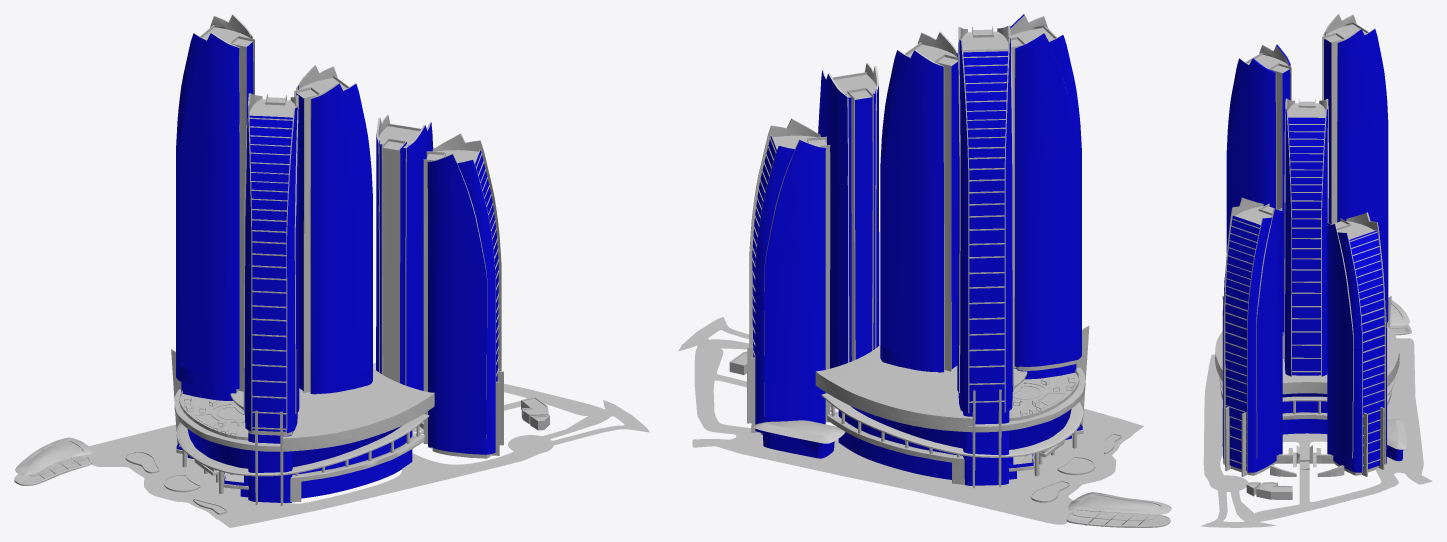
The model's file is Build2.fbx.
3 renders of one model, left to right at view 1: azimuth 30°, elevation 25°; view 2: azimuth 150°, elevation 25°; view 3: azimuth 270°, elevation 25°, orthographic. The views are drawn at different scales.
Visible parts, largest first — view 1: БАШНЯ 3 середина.003; view 2: БАШНЯ 3 середина.003; view 3: БАШНЯ 3 середина.003.
Part boxes in pixels (left/top/right/bottom): БАШНЯ 3 середина.003: left=14, top=14, right=649, bottom=527; БАШНЯ 3 середина.003: left=678, top=14, right=1171, bottom=527; БАШНЯ 3 середина.003: left=1200, top=14, right=1432, bottom=527.
Bounding box in the file's own units: 60540 × 46400 × 26739.
